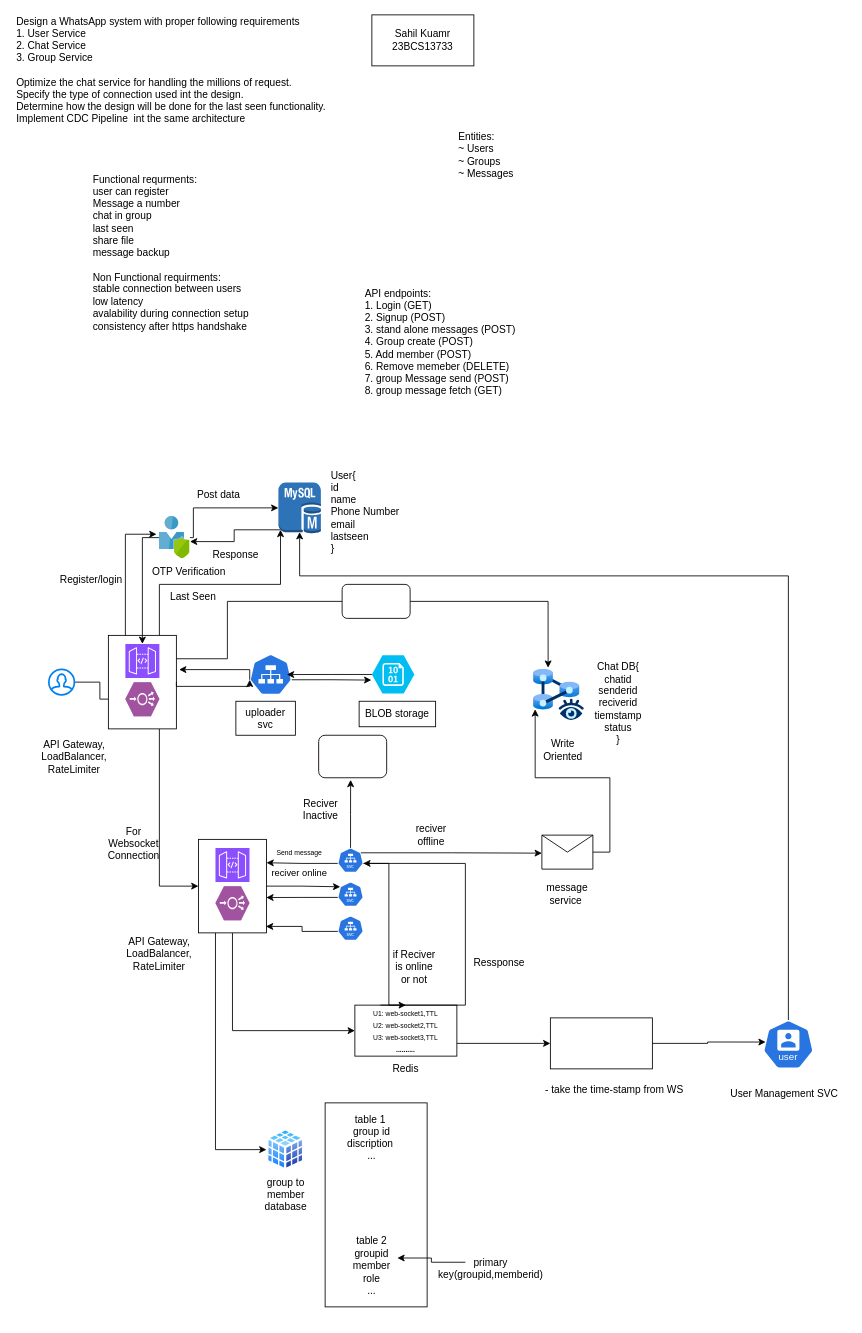
Image size: 862x1333. Some labels were removed from this diagram. The centre of each missing label's shape, as x and y in pixels:
"CDC pipline for last seen" belongs at point 601,1043.
"elastic search" belongs at point 375,601.
"notification" belongs at point 352,756.
